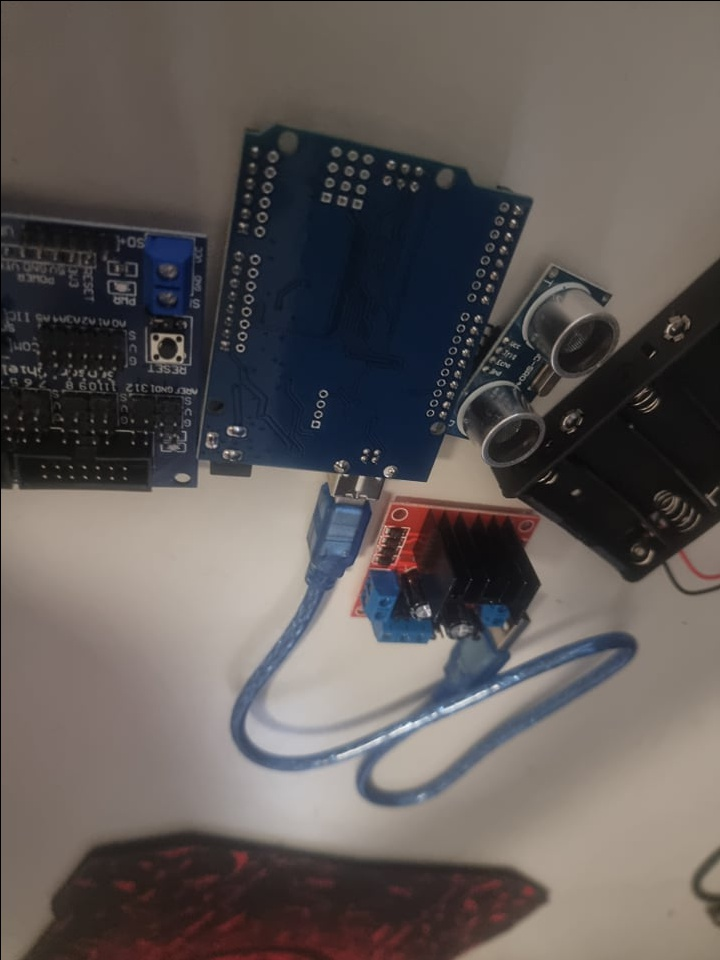5V EXPANSION: (0, 186, 208, 495)
BATTERY BOX: (512, 329, 717, 580)
MOTOR: (347, 498, 542, 654)
SENSOR: (442, 270, 624, 464)
